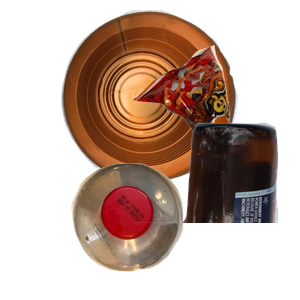glass: (87, 120, 300, 300)
metal: (58, 10, 289, 186)
plastic: (69, 161, 245, 300)
trash: (130, 43, 300, 190)
